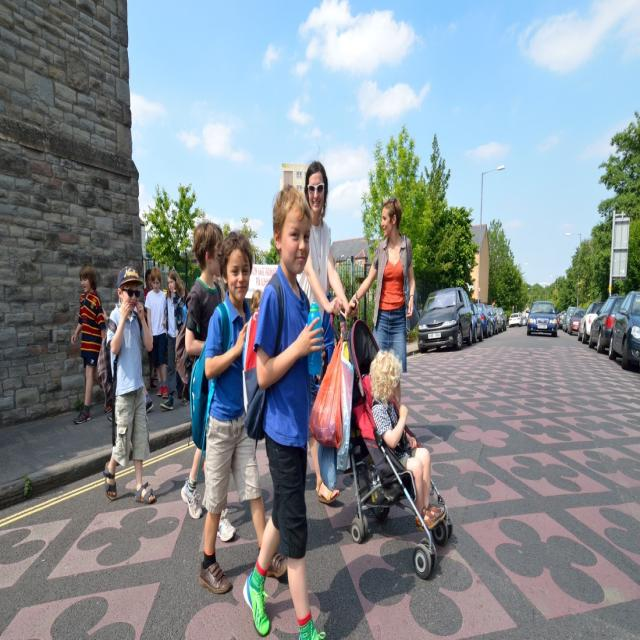Person: (242, 185, 323, 640), (200, 231, 288, 595), (180, 221, 238, 540), (99, 266, 158, 504), (368, 349, 444, 529), (352, 199, 416, 372), (304, 163, 360, 322), (71, 261, 106, 425), (144, 269, 170, 397), (165, 271, 184, 410)
